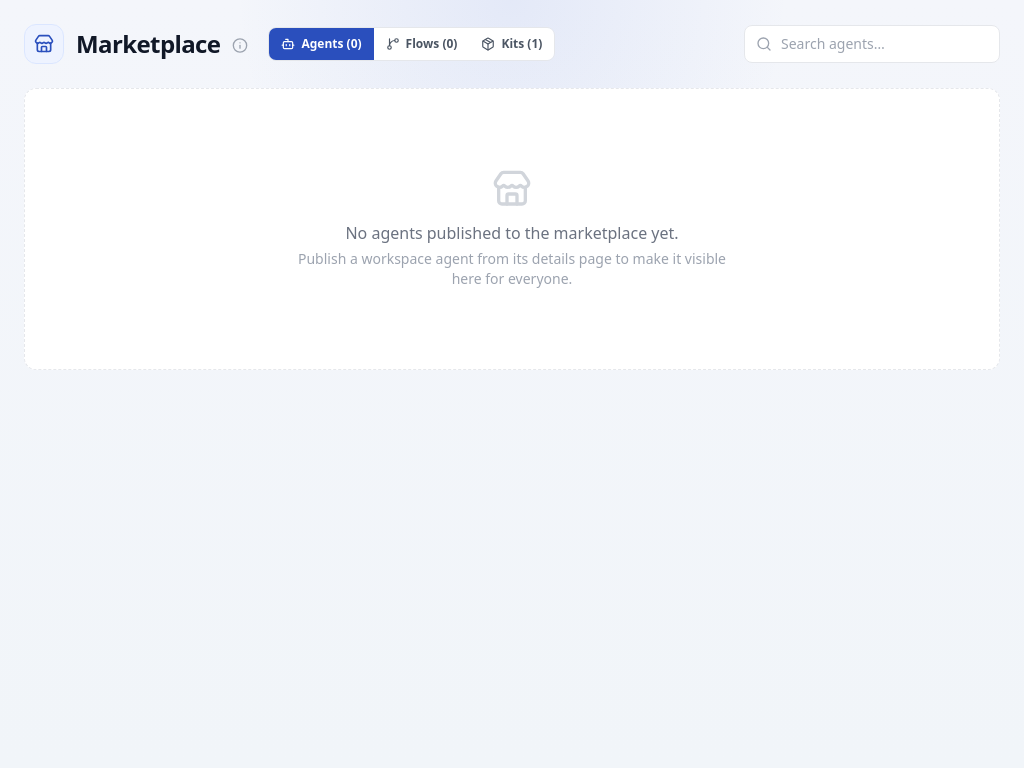
Test: Marketplace — Kits tab › opens the install dialog showing the plan, then installs
The width and height of the screenshot is (1024, 768).
Click the button "Kits (1)" at (512, 44), box [469,28,554,60]
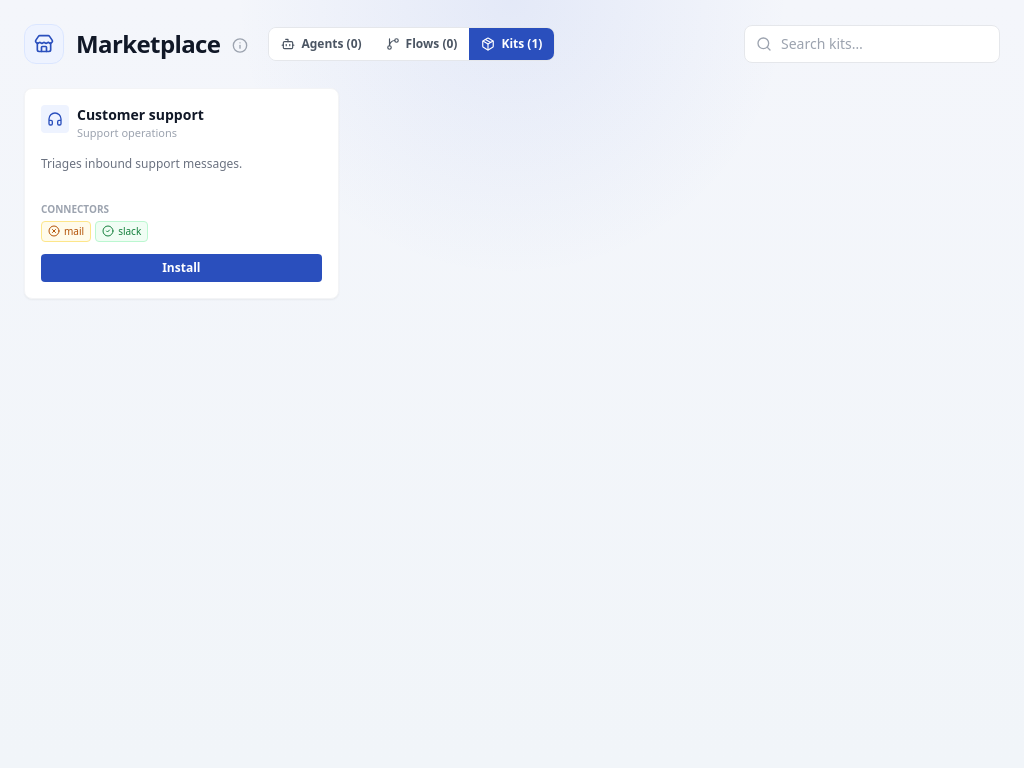
Now the text "Customer support" is shown, box [77,105,204,125]
Click the button "Install" at (181, 268), box [41,254,322,282]
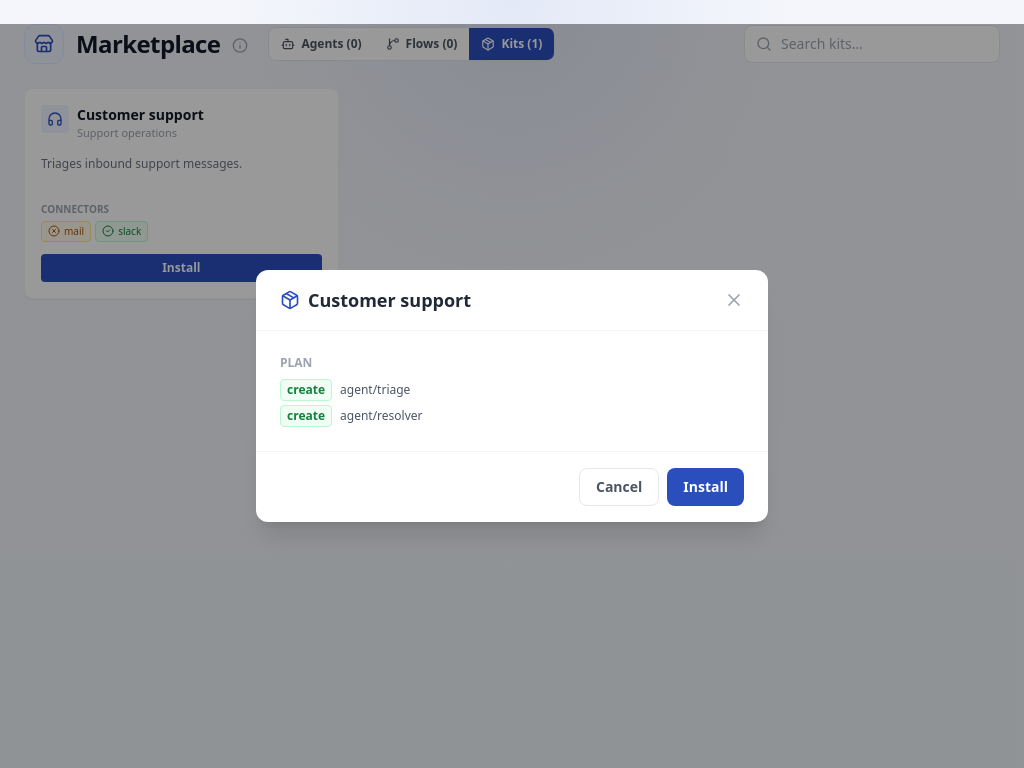
Now the text "agent/triage" is shown, box [340,382,410,398]
Now the text "create" next to "agent/triage" is shown, box [287,381,325,398]
Click the button "Install" at (706, 487), box [667,468,744,506]
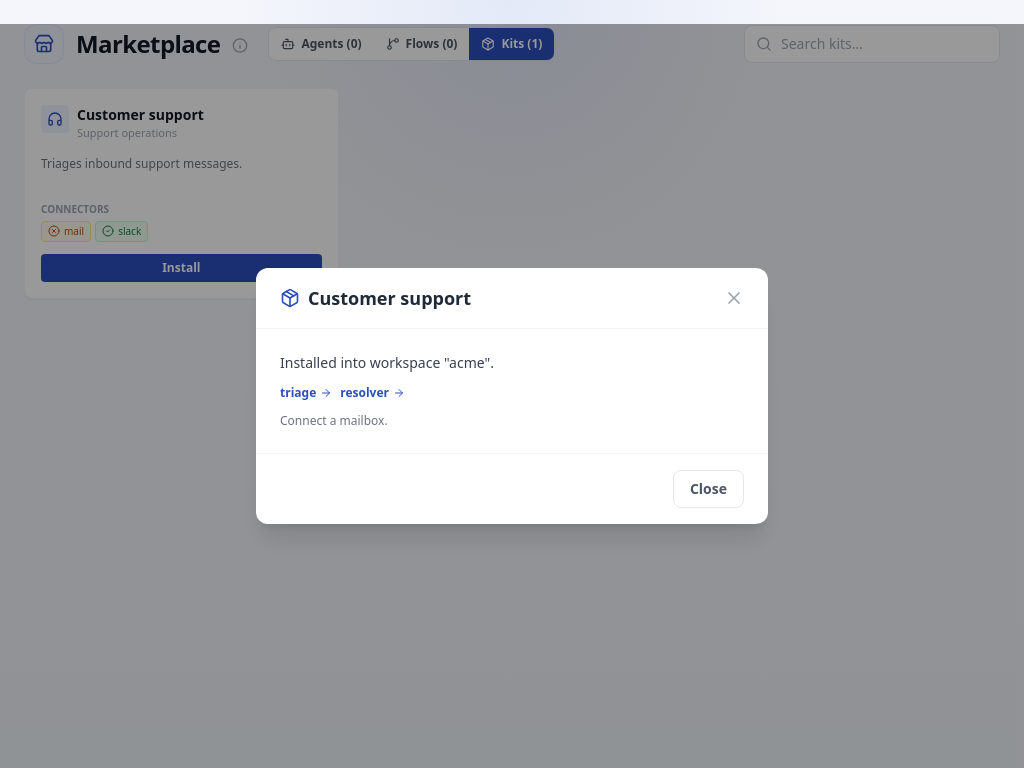
Now the text "Installed into workspace \"acme\"." is shown, box [280,353,494,372]
